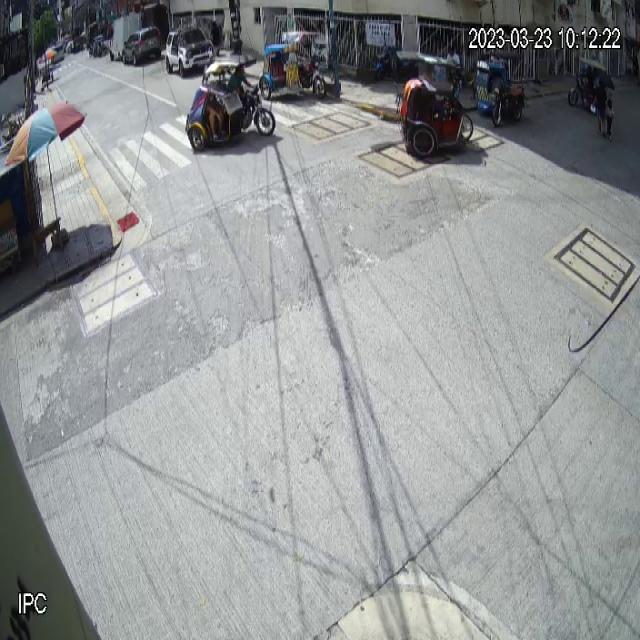Tricycle: (186, 52, 276, 152), (393, 48, 474, 159), (475, 51, 526, 128)
